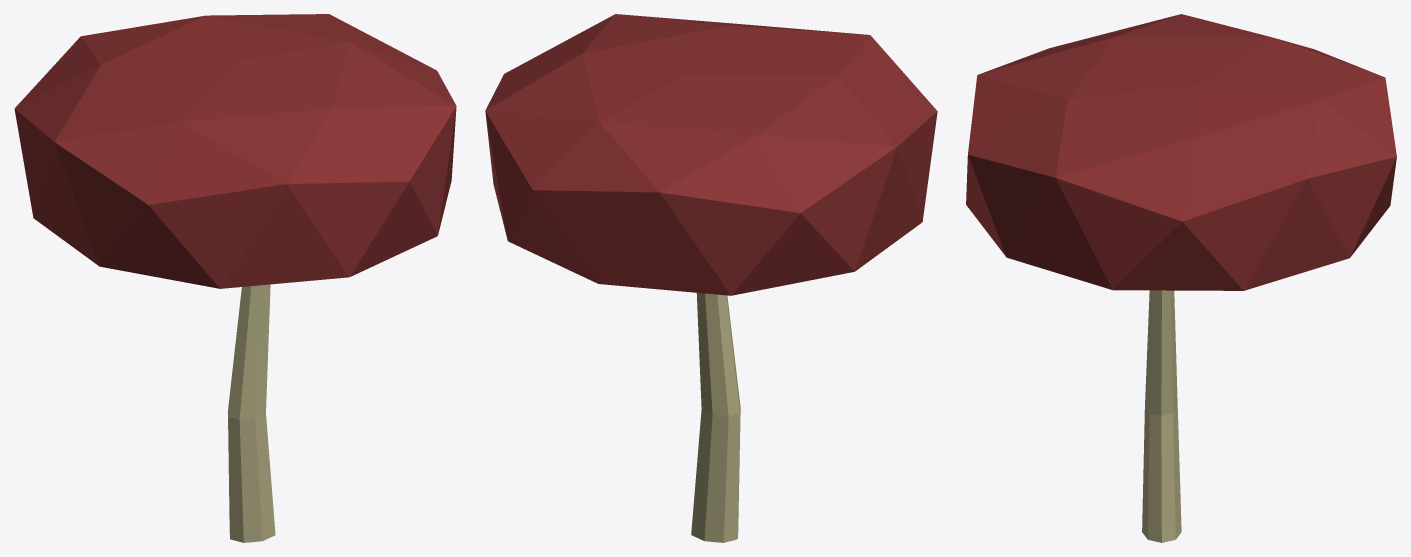
Rendered from flat_mushroom_red.fbx.
3 renders of one model, left to right at view 1: azimuth 30°, elevation 25°; view 2: azimuth 150°, elevation 25°; view 3: azimuth 270°, elevation 25°, orthographic. The views are drawn at different scales.
Parts seen in each view (by area): view 1: flat_mushroom_red; view 2: flat_mushroom_red; view 3: flat_mushroom_red.
Boxes of the visible parts, x1,y1,x2,y2 form: flat_mushroom_red: (14, 14, 456, 542); flat_mushroom_red: (485, 14, 937, 542); flat_mushroom_red: (966, 14, 1396, 542).
Size of the model in its own units: 60.92 by 69.49 by 59.83.
